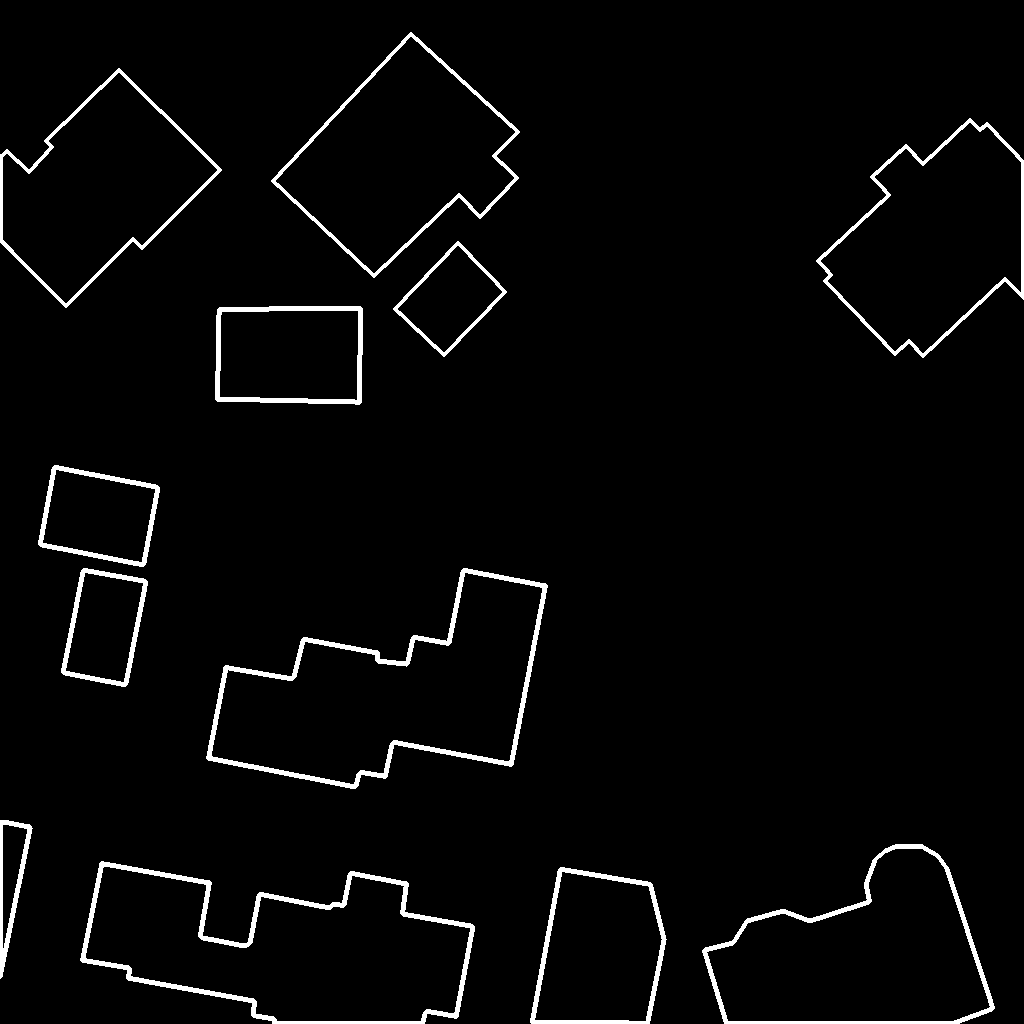building: (208, 570, 547, 788), (82, 863, 474, 1024), (273, 34, 519, 277), (0, 70, 221, 307), (704, 844, 994, 1024), (818, 120, 1024, 357), (532, 869, 665, 1024), (217, 308, 362, 403), (395, 243, 506, 356), (40, 467, 159, 566), (63, 570, 147, 686), (0, 822, 31, 980)
